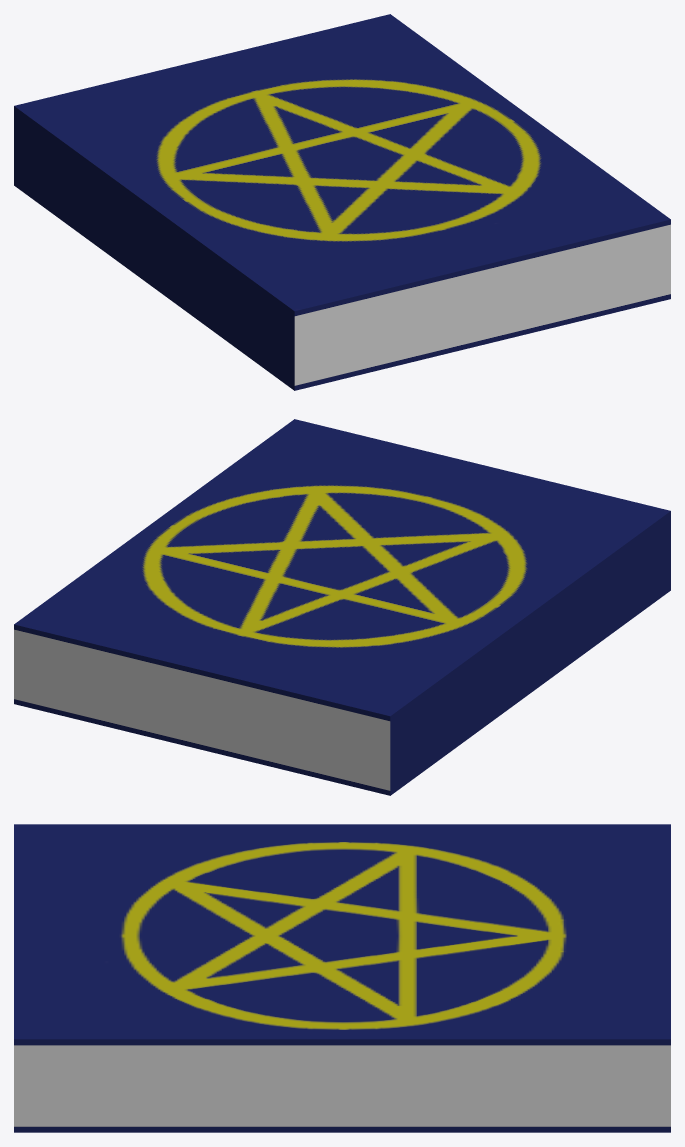
Rendered from LivroMagico.fbx.
The picture shows the model from 3 angles, top to bottom: view 1: azimuth 30°, elevation 25°; view 2: azimuth 150°, elevation 25°; view 3: azimuth 270°, elevation 25°; orthographic projection. The views are drawn at different scales.
Visible parts, largest first — view 1: LivroMagico; view 2: LivroMagico; view 3: LivroMagico.
Boxes of the visible parts, x1,y1,x2,y2 form: LivroMagico: (14,14,670,390); LivroMagico: (14,419,670,795); LivroMagico: (14,824,670,1132).
Bounding box in the file's own units: 36.62 × 7.4 × 47.29.
